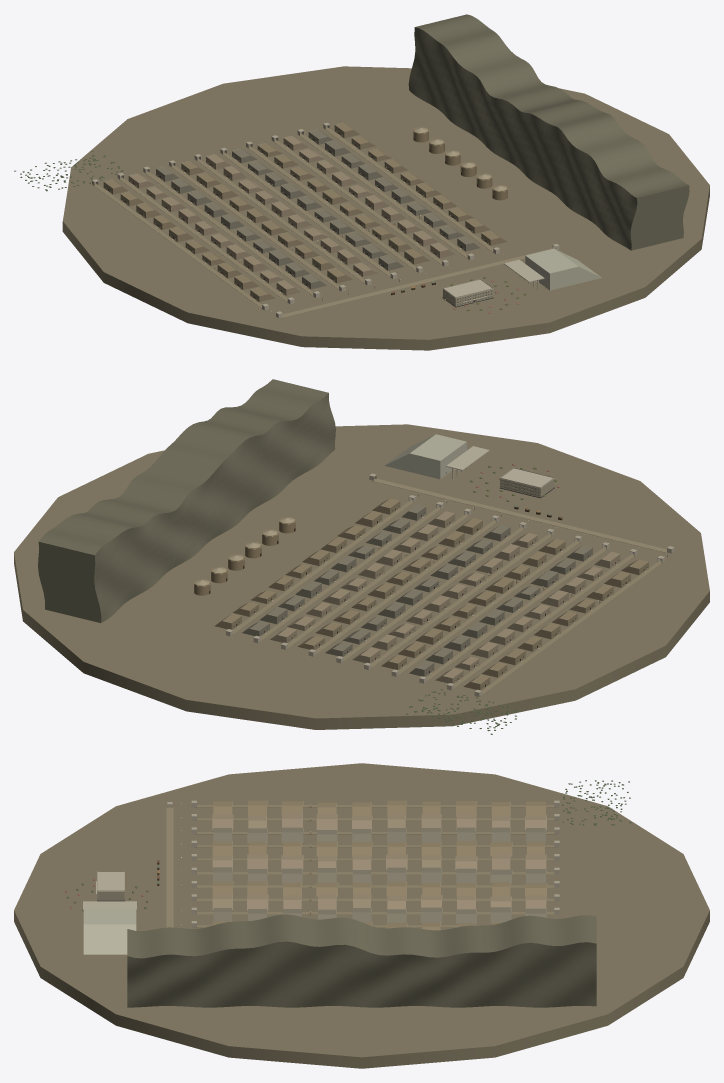
File: hearthstone.glb
The picture shows the model from 3 angles, top to bottom: view 1: azimuth 30°, elevation 25°; view 2: azimuth 150°, elevation 25°; view 3: azimuth 270°, elevation 25°; orthographic projection. The views are drawn at different scales.
Parts seen in each view (by area): view 1: Hearthstone_v2_stone, Public_shelters_stone; view 2: Hearthstone_v2_stone, Public_shelters_stone, Hearthstone_v2_window; view 3: Hearthstone_v2_stone, Public_shelters_stone.
Boxes of the visible parts, left/top/right/bottom form: Hearthstone_v2_stone: left=14, top=14, right=709, bottom=350; Public_shelters_stone: left=91, top=122, right=559, bottom=318; Hearthstone_v2_stone: left=14, top=379, right=709, bottom=734; Public_shelters_stone: left=225, top=473, right=674, bottom=696; Hearthstone_v2_window: left=233, top=472, right=647, bottom=687; Hearthstone_v2_stone: left=14, top=763, right=709, bottom=1068; Public_shelters_stone: left=167, top=800, right=559, bottom=927.
Size of the model in its own units: 660 by 83.84 by 660.
